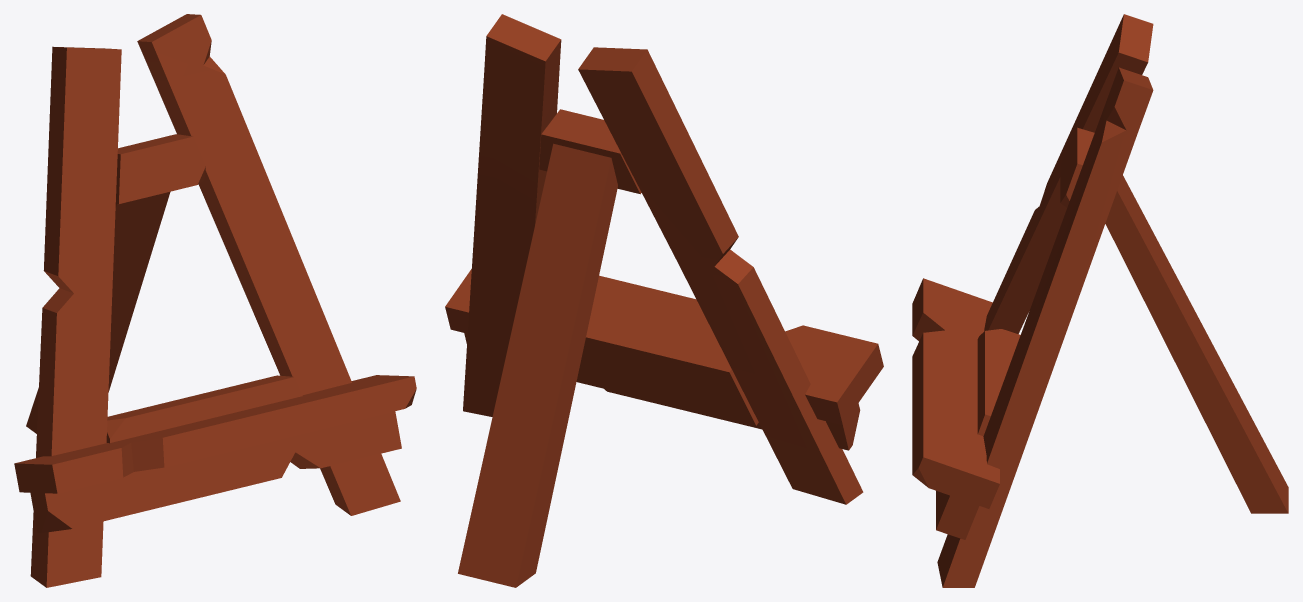
File: easel.obj
3 renders of one model, left to right at view 1: azimuth 30°, elevation 25°; view 2: azimuth 150°, elevation 25°; view 3: azimuth 270°, elevation 25°, orthographic. The views are drawn at different scales.
Visible parts, largest first — view 1: easel_Cube.185; view 2: easel_Cube.185; view 3: easel_Cube.185.
Boxes of the visible parts, box(x1,y1,x2,y2) form: easel_Cube.185: box(14, 14, 416, 587); easel_Cube.185: box(445, 14, 883, 587); easel_Cube.185: box(912, 14, 1288, 587).
Size of the model in its own units: 1.38 by 1.63 by 1.23.
